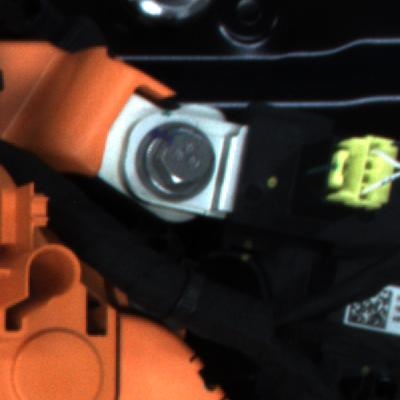nut_b: (128, 115, 233, 209)
